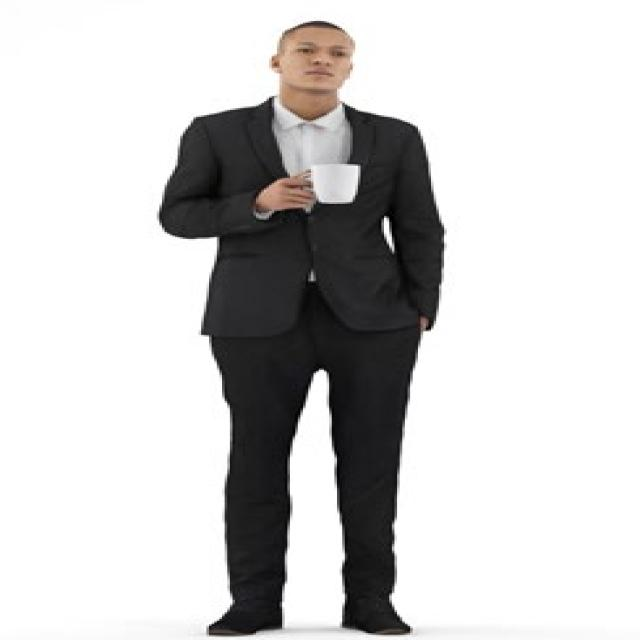standing: (153, 20, 451, 640)
